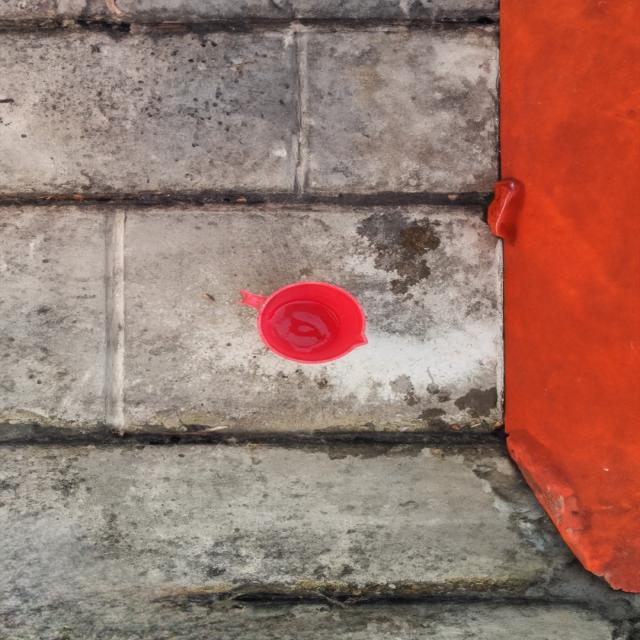Breeding Place: (238, 269, 388, 377)
